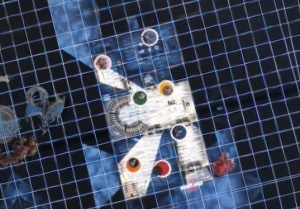blue: (166, 118, 191, 143)
green: (128, 85, 151, 109)
orange: (122, 153, 145, 176)
pink: (90, 50, 114, 74)
red: (153, 156, 172, 180)
violet: (138, 24, 163, 49)
yellow: (153, 74, 179, 99)
